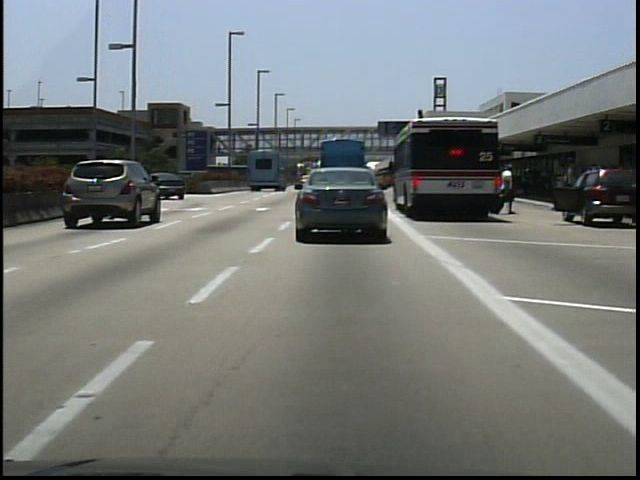person: (497, 158, 519, 220)
